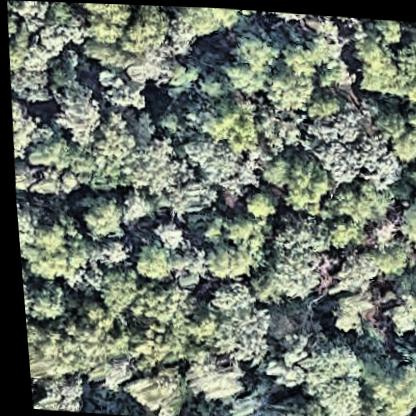tree-top: (248, 214, 327, 301), (304, 101, 385, 178), (124, 134, 199, 210), (190, 208, 267, 282), (293, 336, 363, 416), (200, 292, 272, 366), (344, 25, 416, 99), (41, 137, 122, 193), (55, 303, 118, 372), (193, 92, 263, 151), (222, 28, 284, 92), (177, 349, 246, 406), (273, 151, 332, 211), (114, 311, 176, 367), (359, 353, 416, 413), (119, 362, 182, 416), (323, 174, 393, 222), (53, 87, 109, 142), (258, 61, 317, 112), (7, 42, 62, 96), (21, 322, 71, 380), (72, 188, 125, 242), (86, 264, 139, 317), (324, 244, 379, 292), (359, 230, 412, 278), (35, 1, 88, 49), (320, 290, 374, 337), (24, 375, 86, 413), (125, 235, 174, 283), (24, 211, 73, 259), (296, 13, 349, 57), (169, 5, 237, 39), (18, 277, 65, 325), (95, 73, 149, 114), (379, 279, 416, 337), (8, 99, 40, 162), (381, 113, 416, 164), (96, 105, 133, 151), (111, 186, 152, 226), (13, 196, 39, 256), (78, 2, 139, 27), (247, 396, 322, 416), (145, 213, 187, 248), (254, 152, 292, 189), (239, 187, 280, 220), (391, 189, 416, 243), (367, 16, 407, 40), (6, 0, 52, 20), (404, 333, 416, 394), (345, 408, 397, 416)
